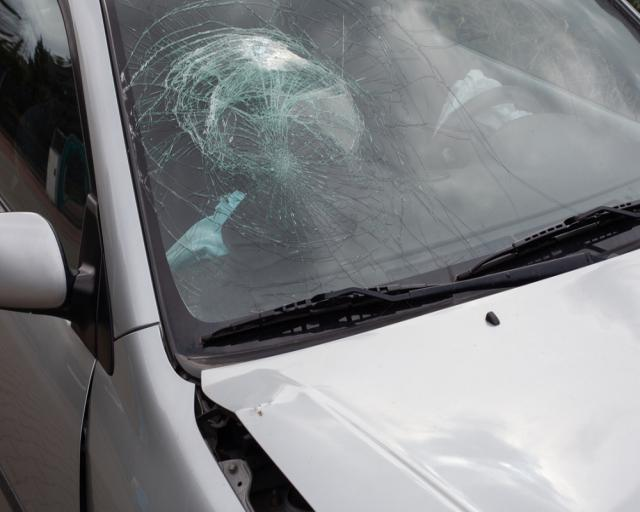glass shatter: (107, 0, 640, 357)
